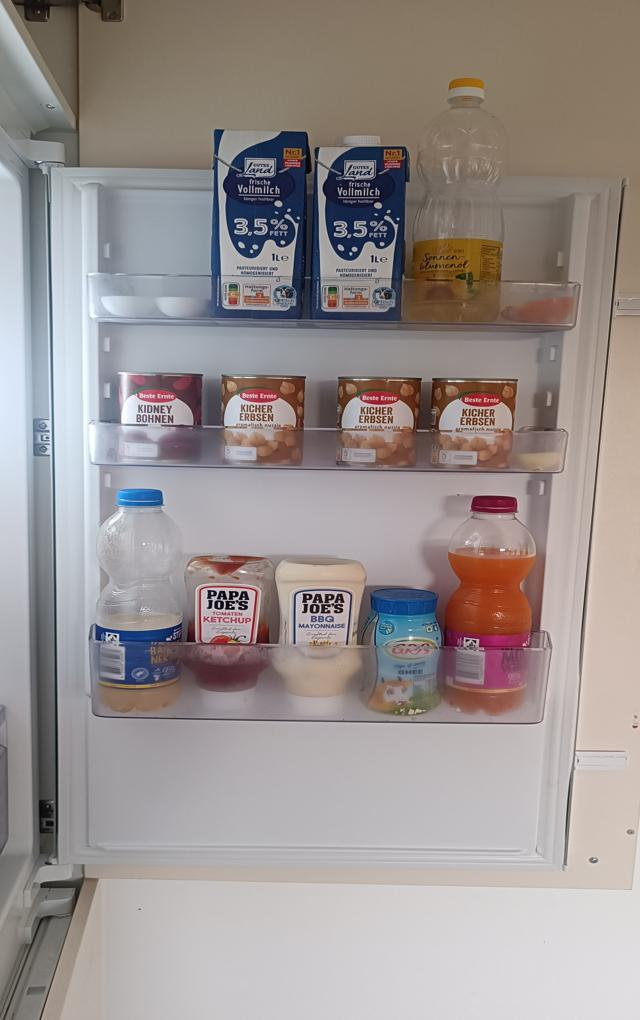bananajuice: (93, 487, 185, 710)
chickpeas: (219, 372, 307, 472), (429, 376, 519, 470), (336, 374, 422, 471)
ghee: (363, 584, 446, 719)
kidneybeans: (117, 373, 204, 466)
mayoniasie: (273, 558, 368, 712)
milk: (214, 128, 308, 321), (314, 136, 406, 327)
oil: (415, 78, 510, 322)
orangejuice: (447, 494, 537, 716)
tomatoketchup: (185, 557, 273, 713)
